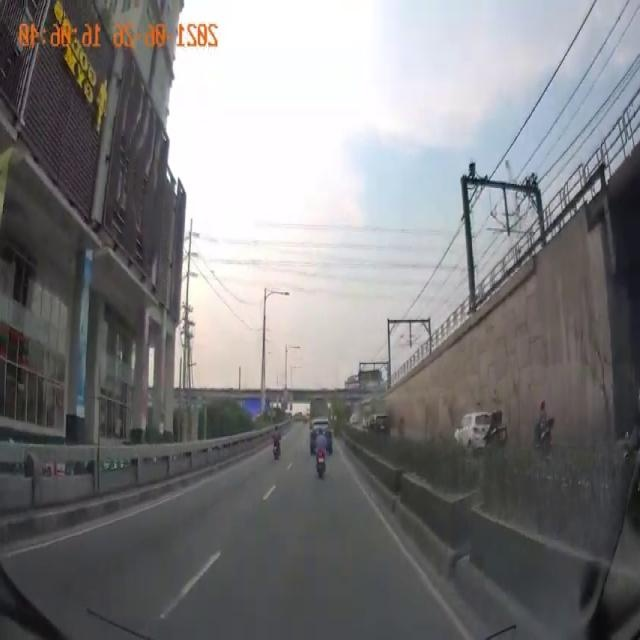car: (369, 411, 391, 441)
motorcycle: (529, 402, 555, 470), (482, 402, 506, 473), (267, 423, 285, 461), (316, 428, 326, 489)
